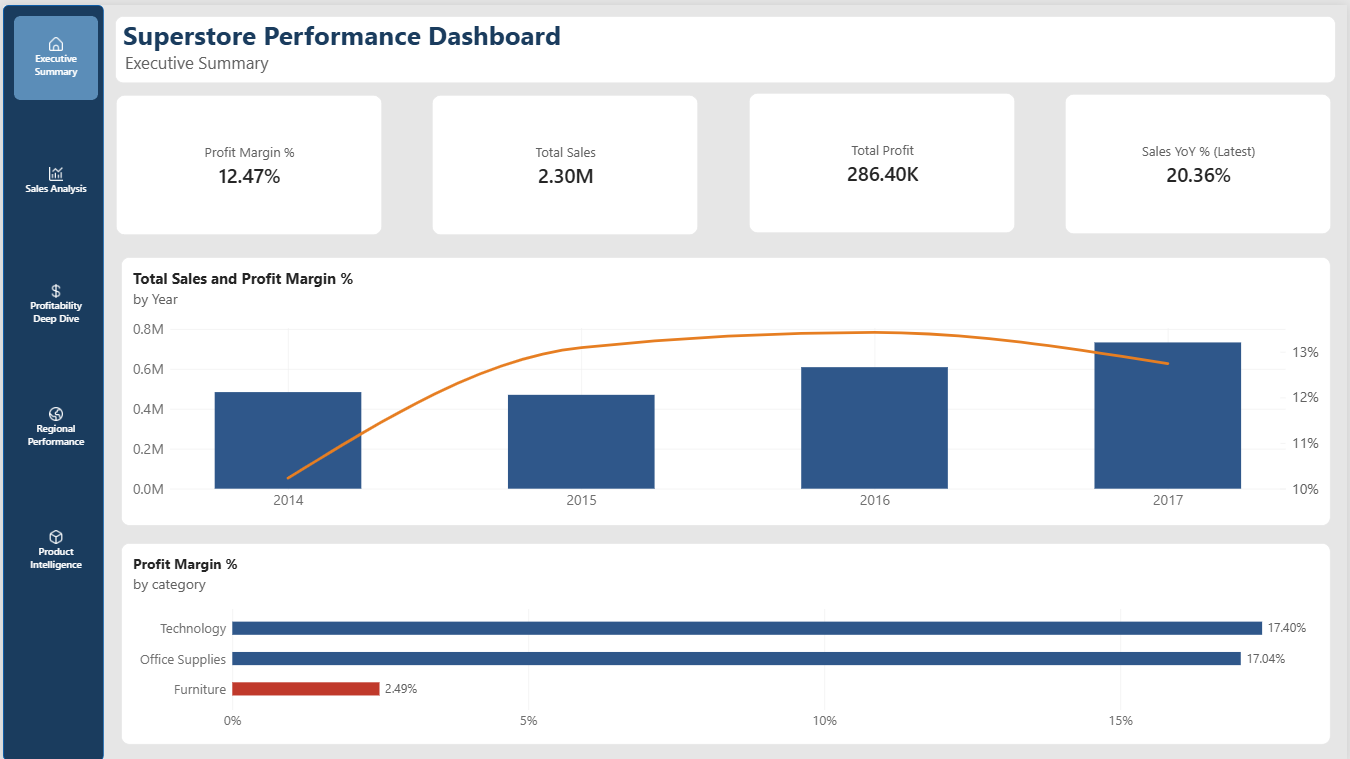

What the dashboard file says about the page in this screenshot:
{"tool":"powerbi","page":{"name":"Executive Summary","canvas":[1920,1080],"ordinal":0},"visuals":[{"type":"shape","box":[0,0,144,1080],"z":0},{"type":"cardVisual","fields":{"Data":["fact_orders.Profit Margin %"]},"box":[162,128,380,200],"z":1000},{"type":"cardVisual","fields":{"Data":["fact_orders.Total Sales"]},"box":[613.6,128,380,200],"z":2000},{"type":"cardVisual","fields":{"Data":["fact_orders.Total Profit"]},"box":[1065.1,126,380,200],"z":3000},{"type":"cardVisual","fields":{"Data":["fact_orders.Sales YoY % (Latest)"]},"box":[1516.7,126.7,380,200],"z":4000},{"type":"lineClusteredColumnComboChart","fields":{"Category":["dim_date.Year"],"Y":["fact_orders.Total Sales"],"Y2":["fact_orders.Profit Margin %"]},"box":[168,360,1728,384],"z":5000},{"type":"clusteredBarChart","fields":{"Category":["fact_orders.category"],"Y":["fact_orders.Profit Margin %"]},"box":[168,768,1728,288],"z":6000},{"type":"textbox","box":[100,280,300,120],"z":7000},{"type":"textbox","box":[160,16,1744,96],"z":8000},{"type":"actionButton","box":[16,16,120,120],"z":9000},{"type":"actionButton","box":[16,192,120,120],"z":10000},{"type":"actionButton","box":[16,368,120,120],"z":11000},{"type":"actionButton","box":[16,544,120,120],"z":12000},{"type":"actionButton","box":[16,720,120,120],"z":13000}]}

Visuals, with their boxes in screenshot pixels (x1, y1, x2, y2), scaled from the page's 1920x1080 canvas onto the 1350x759 screenshot:
shape: locate(0, 0, 101, 758)
cardVisual - fact_orders.Profit Margin %: locate(114, 90, 381, 231)
cardVisual - fact_orders.Total Sales: locate(431, 90, 699, 231)
cardVisual - fact_orders.Total Profit: locate(749, 89, 1016, 229)
cardVisual - fact_orders.Sales YoY % (Latest): locate(1066, 89, 1334, 230)
lineClusteredColumnComboChart - dim_date.Year x fact_orders.Total Sales: locate(118, 253, 1333, 523)
clusteredBarChart - fact_orders.category x fact_orders.Profit Margin %: locate(118, 540, 1333, 742)
textbox: locate(70, 197, 281, 281)
textbox: locate(112, 11, 1339, 79)
actionButton: locate(11, 11, 96, 96)
actionButton: locate(11, 135, 96, 219)
actionButton: locate(11, 259, 96, 343)
actionButton: locate(11, 382, 96, 467)
actionButton: locate(11, 506, 96, 590)
